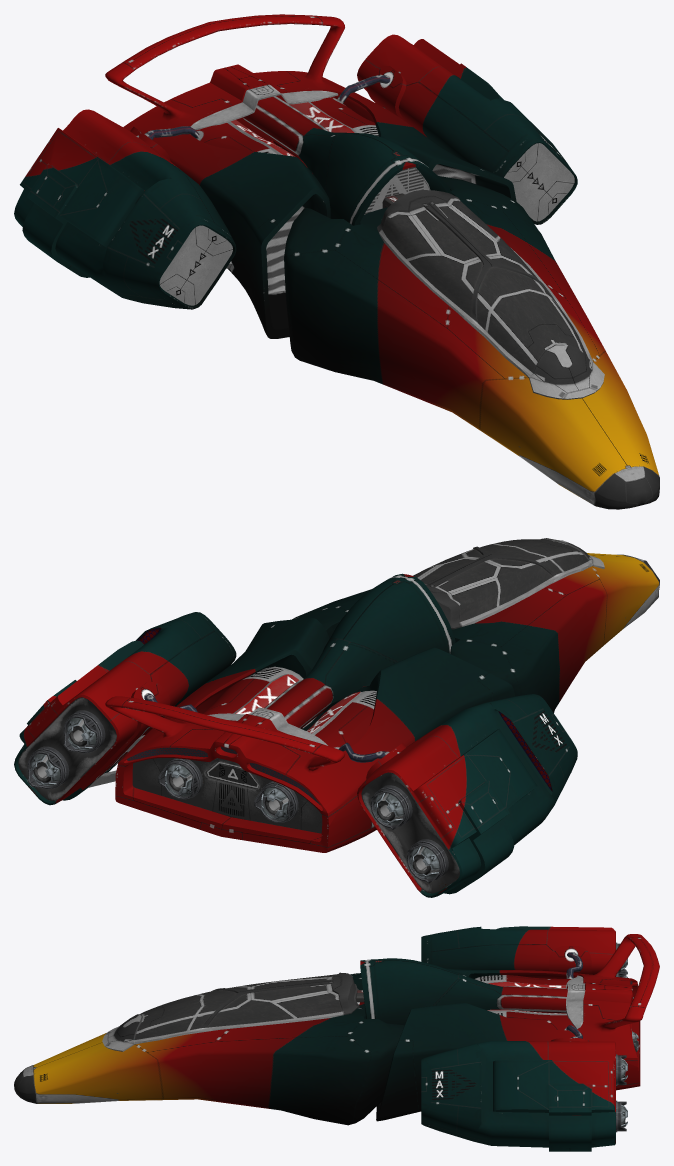
File: Spaceship.glb
3 renders of one model, top to bottom at view 1: azimuth 30°, elevation 25°; view 2: azimuth 150°, elevation 25°; view 3: azimuth 270°, elevation 25°, orthographic. The views are drawn at different scales.
Visible parts, largest first — view 1: front; view 2: front; view 3: front.
Part boxes in pixels (bbox=[...]): front: bbox=[14, 14, 659, 509]; front: bbox=[14, 538, 659, 897]; front: bbox=[14, 926, 659, 1151].
Bounding box in the file's own units: 0.0086 × 0.00317 × 0.014.
1 material, 1 textured.
